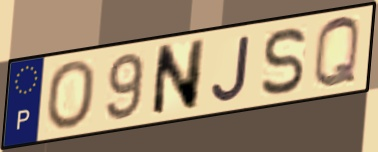9: (102, 50, 147, 122)
J: (209, 33, 253, 104)
N: (148, 36, 207, 120)
O: (43, 58, 98, 132)
Q: (311, 14, 363, 92)
S: (258, 25, 309, 99)
